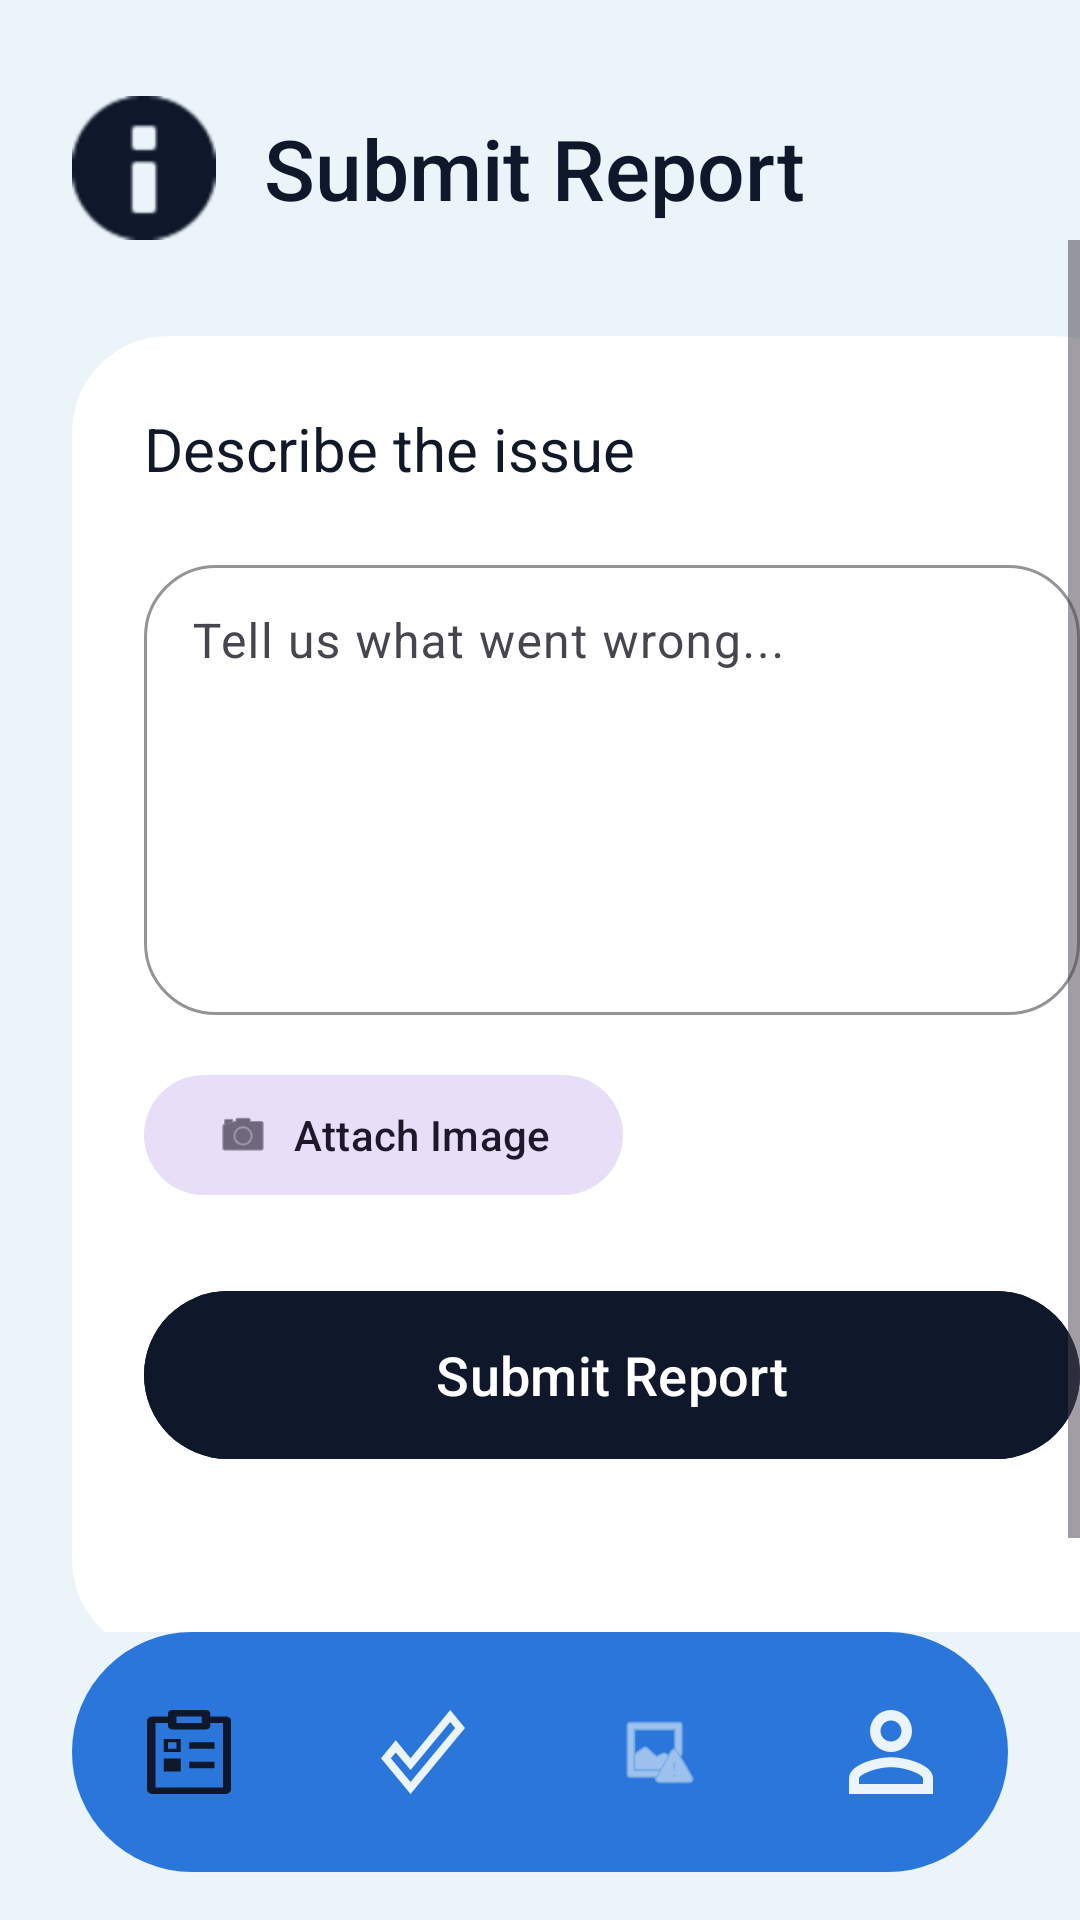

Where icons sit on this 1080w x 1920h app screen, as (x1, y1, x2, y2):
info: (72, 96, 216, 240)
